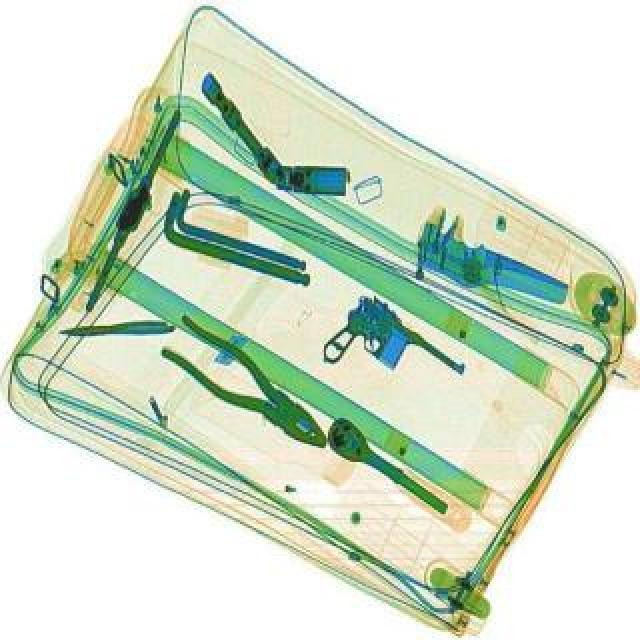gun: (312, 288, 472, 426)
wrench: (150, 310, 342, 464), (54, 316, 174, 338)
